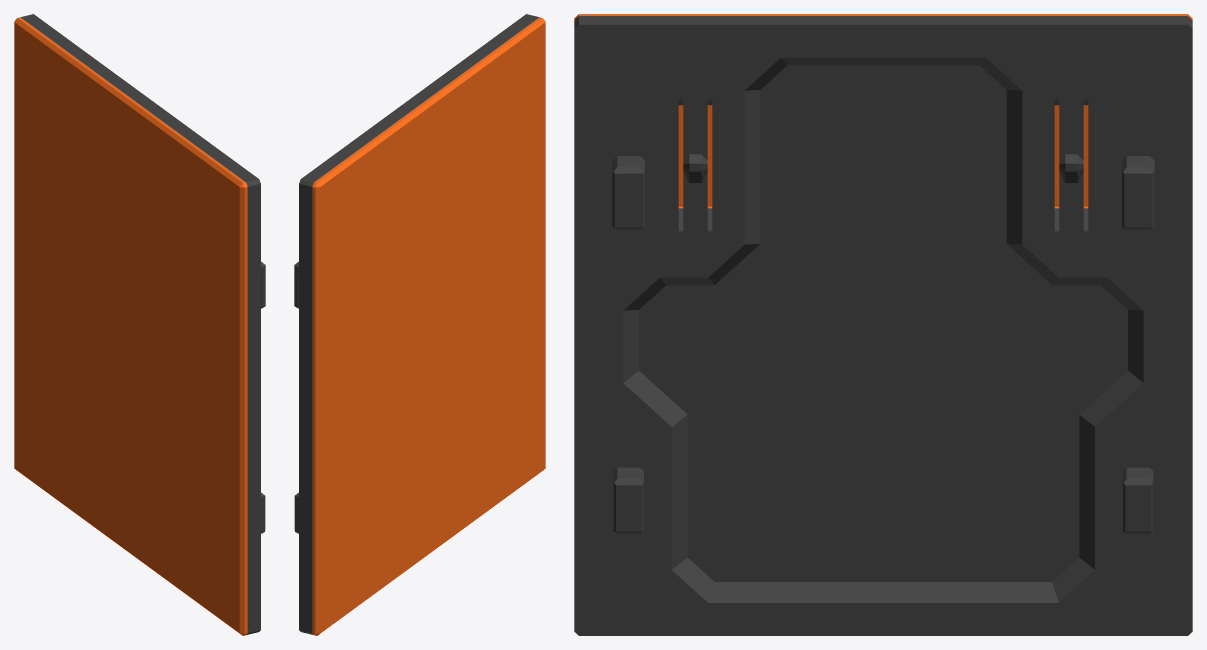
Rendered from SideCover_59-1H.lib.glb.
3 views of the same model, side by side, from view 1: azimuth 30°, elevation 25°; view 2: azimuth 150°, elevation 25°; view 3: azimuth 270°, elevation 25° (orthographic). The views are drawn at different scales.
Parts seen in each view (by area): view 1: SideCover_59-1H; view 2: SideCover_59-1H; view 3: SideCover_59-1H.
Boxes of the visible parts, left/top/right/bottom form: SideCover_59-1H: left=14, top=14, right=265, bottom=635; SideCover_59-1H: left=294, top=14, right=545, bottom=635; SideCover_59-1H: left=574, top=14, right=1192, bottom=635.
Size of the model in its own units: 5.05 by 55.6 by 51.
